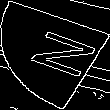N_SE: (13, 26, 97, 84)
